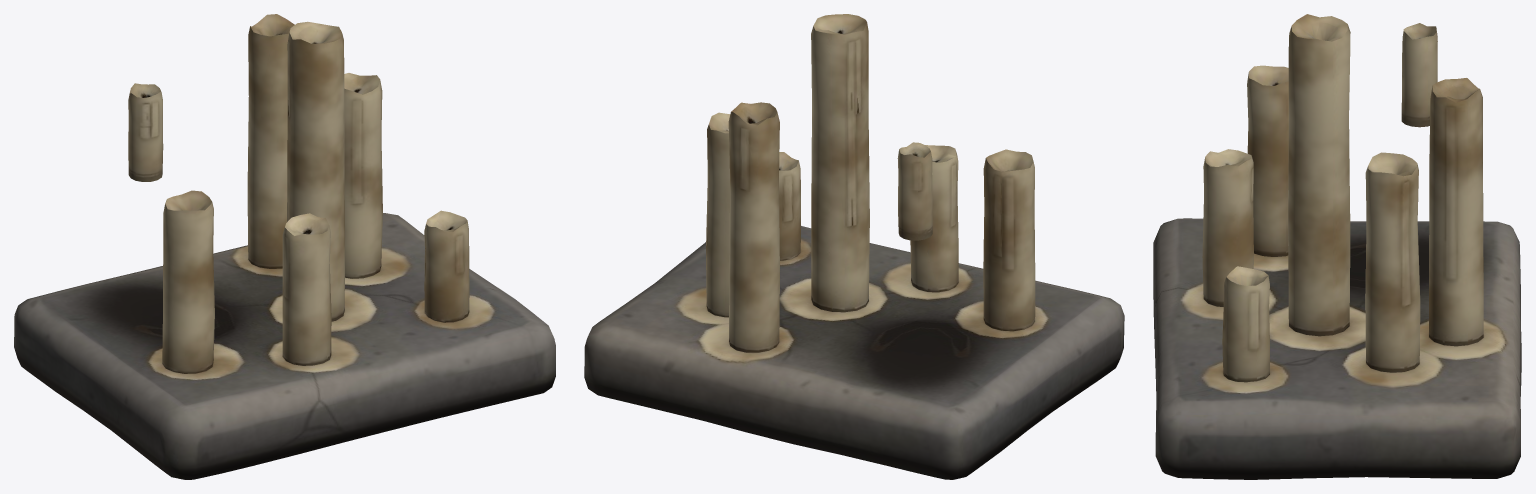
The model's file is candles.glb.
3 renders of one model, left to right at view 1: azimuth 30°, elevation 25°; view 2: azimuth 150°, elevation 25°; view 3: azimuth 270°, elevation 25°, orthographic. The views are drawn at different scales.
Parts seen in each view (by area): view 1: candles; view 2: candles; view 3: candles.
Boxes of the visible parts, x1,y1,x2,y2 form: candles: (14,14,555,479); candles: (584,14,1124,479); candles: (1153,14,1521,479).
Bounding box in the file's own units: 0.5249 × 0.4553 × 0.4046.
Materials: 1 (1 with a texture image).
